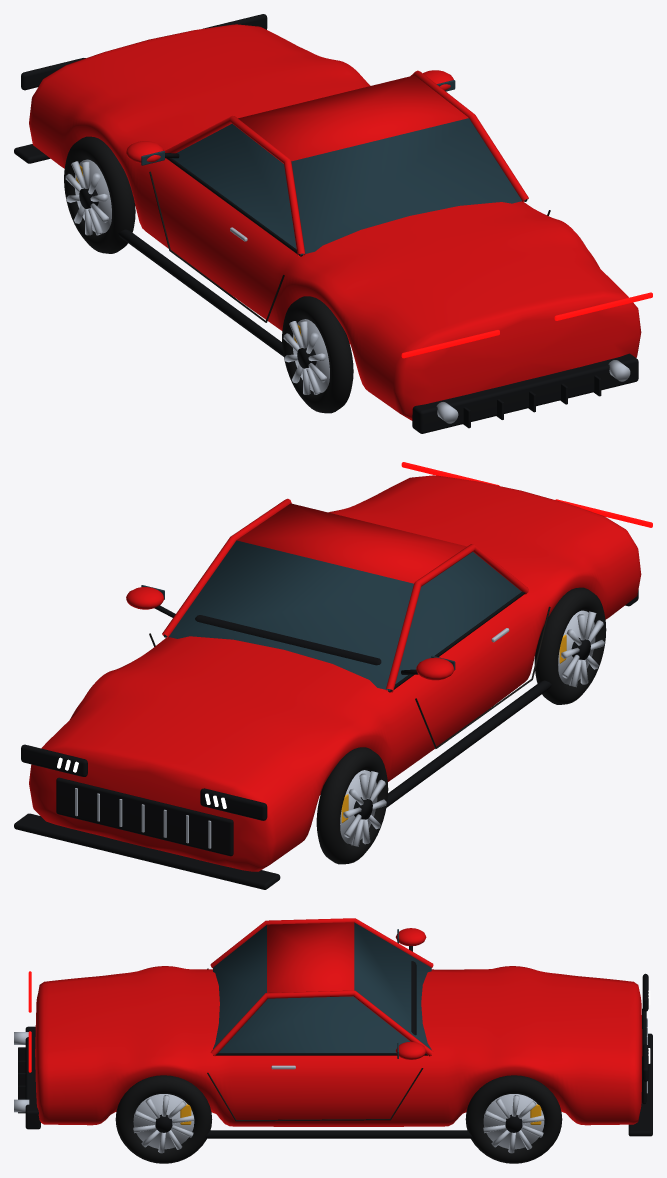
Rendered from deccan-muscle.glb.
The picture shows the model from 3 angles, top to bottom: view 1: azimuth 30°, elevation 25°; view 2: azimuth 150°, elevation 25°; view 3: azimuth 270°, elevation 25°; orthographic projection. The views are drawn at different scales.
Parts seen in each view (by area): view 1: Surface_Paint, Surface_Glazing, Surface_Carbon, Tire, Tire.001, Rim_lip.001, Rim_lip, Surface_Tailights, Surface_Alloy, Surface_Panel_seams; view 2: Surface_Paint, Surface_Glazing, Surface_Carbon, Tire.001, Tire, Rim_lip, Rim_lip.001, Surface_Tailights, Surface_Alloy, Surface_Panel_seams; view 3: Surface_Paint, Surface_Glazing, Surface_Carbon, Tire.002, Tire.003, Rim_lip.003, Rim_lip.002, Surface_Alloy, Surface_Panel_seams.
Boxes of the visible parts, x1=… form: Surface_Paint: x1=29, y1=24, x2=641, y2=420; Surface_Glazing: x1=141, y1=80, x2=525, y2=254; Surface_Carbon: x1=14, y1=14, x2=638, y2=433; Tire: x1=282, y1=296, x2=353, y2=413; Tire.001: x1=64, y1=136, x2=135, y2=253; Rim_lip.001: x1=65, y1=159, x2=111, y2=235; Rim_lip: x1=283, y1=319, x2=329, y2=394; Surface_Tailights: x1=401, y1=292, x2=652, y2=358; Surface_Alloy: x1=230, y1=227, x2=630, y2=423; Surface_Panel_seams: x1=149, y1=171, x2=550, y2=322; Surface_Paint: x1=29, y1=475, x2=641, y2=871; Surface_Glazing: x1=141, y1=540, x2=521, y2=690; Surface_Carbon: x1=14, y1=590, x2=638, y2=889; Tire.001: x1=316, y1=747, x2=388, y2=864; Tire: x1=534, y1=587, x2=606, y2=704; Rim_lip: x1=558, y1=610, x2=604, y2=687; Rim_lip.001: x1=340, y1=770, x2=386, y2=846; Surface_Tailights: x1=401, y1=462, x2=652, y2=527; Surface_Alloy: x1=75, y1=628, x2=509, y2=848; Surface_Panel_seams: x1=149, y1=606, x2=550, y2=748; Surface_Paint: x1=35, y1=918, x2=642, y2=1126; Surface_Glazing: x1=213, y1=922, x2=431, y2=1058; Surface_Carbon: x1=18, y1=946, x2=652, y2=1138; Tire.002: x1=115, y1=1075, x2=212, y2=1163; Tire.003: x1=465, y1=1075, x2=562, y2=1163; Rim_lip.003: x1=483, y1=1094, x2=544, y2=1153; Rim_lip.002: x1=133, y1=1094, x2=194, y2=1153; Surface_Alloy: x1=14, y1=1018, x2=647, y2=1112; Surface_Panel_seams: x1=207, y1=968, x2=423, y2=1121.
Size of the model in its own units: 2.33 by 1.38 by 4.97.
